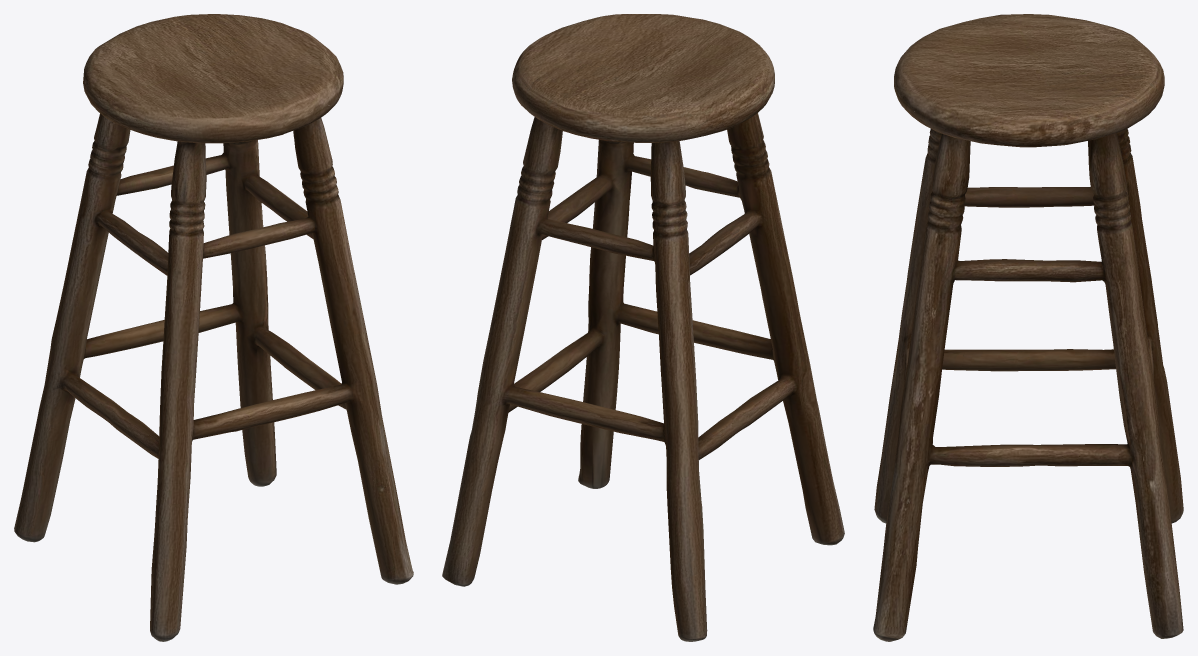
Rendered from bar_stool.glb.
3 renders of one model, left to right at view 1: azimuth 30°, elevation 25°; view 2: azimuth 150°, elevation 25°; view 3: azimuth 270°, elevation 25°, orthographic. The views are drawn at different scales.
Visible parts, largest first — view 1: tripo_node_3e453610-9429-408a-b73e-835471e486c9; view 2: tripo_node_3e453610-9429-408a-b73e-835471e486c9; view 3: tripo_node_3e453610-9429-408a-b73e-835471e486c9.
Part boxes in pixels (x1,y1,x2,y2): tripo_node_3e453610-9429-408a-b73e-835471e486c9: (14,14,413,641); tripo_node_3e453610-9429-408a-b73e-835471e486c9: (442,14,844,641); tripo_node_3e453610-9429-408a-b73e-835471e486c9: (873,14,1183,641).
Size of the model in its own units: 0.5333 by 0.9793 by 0.5334.
1 material, 1 textured.
